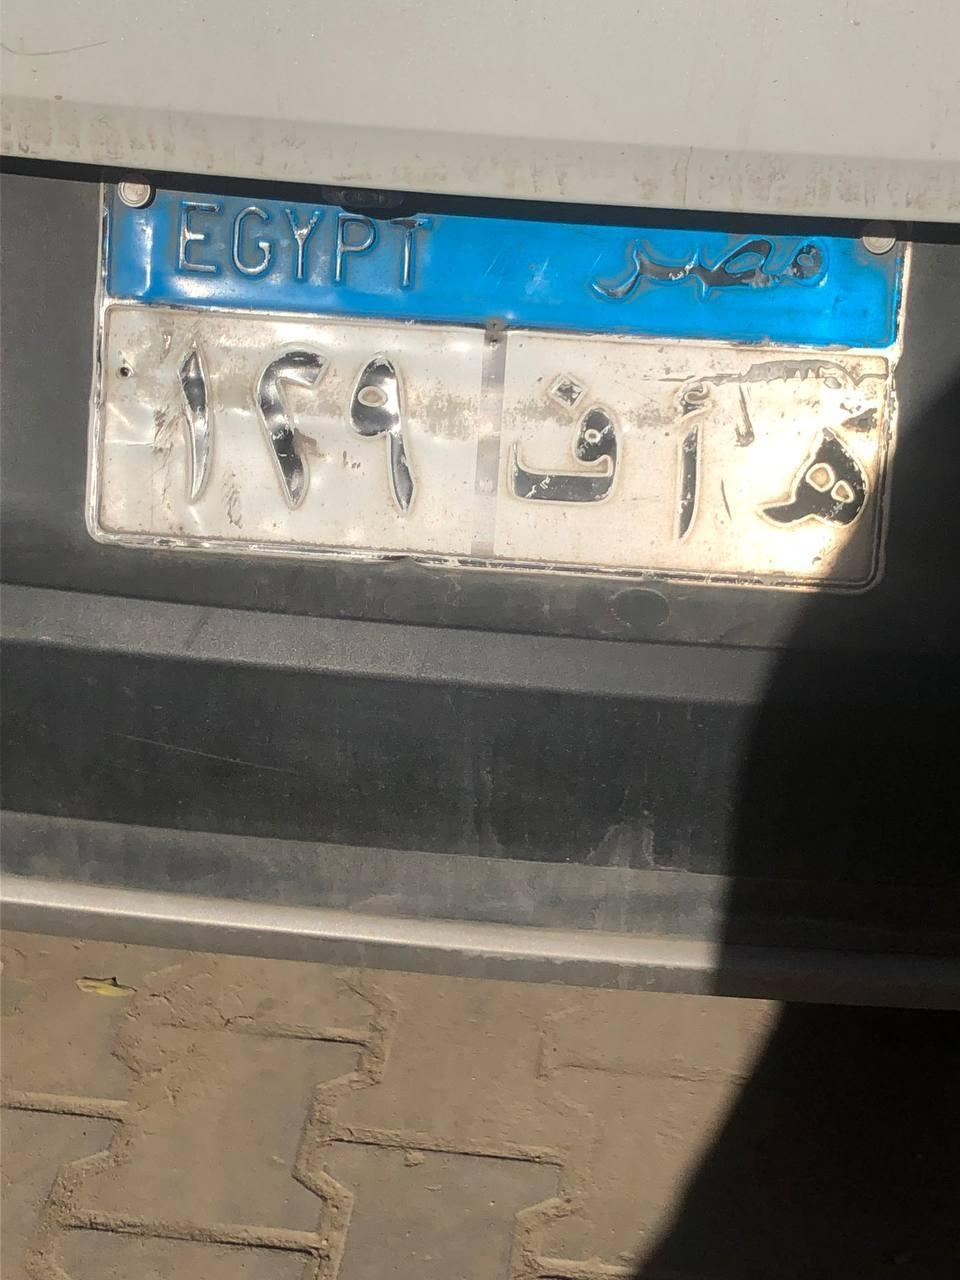1: (153, 329, 221, 516)
2: (243, 334, 333, 534)
9: (348, 366, 436, 527)
F: (517, 372, 628, 514)
Heeh: (758, 420, 866, 544)
License Plate: (80, 177, 918, 601)
alef: (651, 368, 718, 544)
